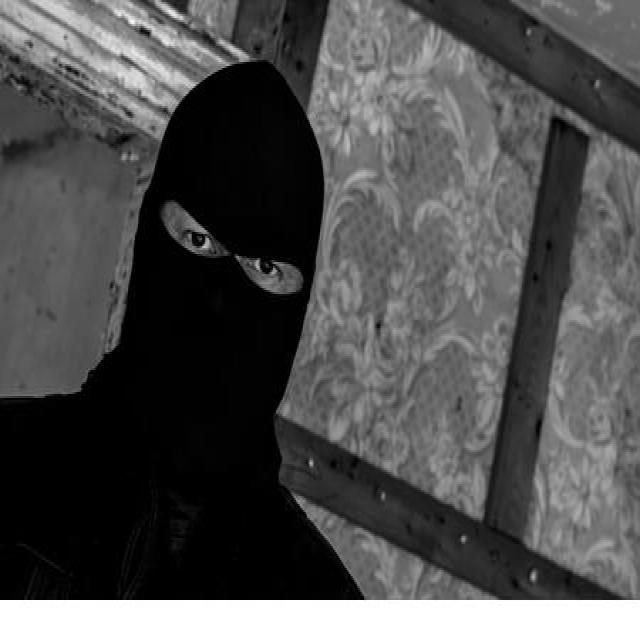6_pasamontana: (123, 59, 325, 501)
